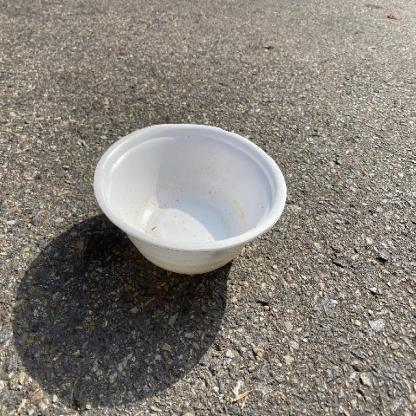Glass Cup: (92, 121, 289, 276), (93, 124, 287, 274)
